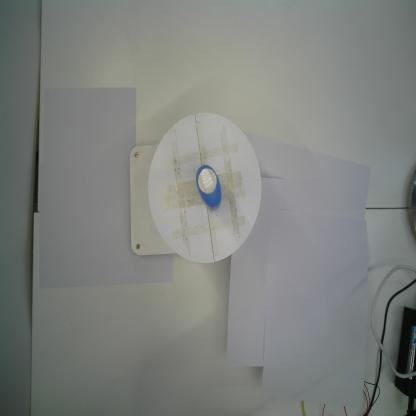Personal Hygiene: (195, 164, 222, 211)
